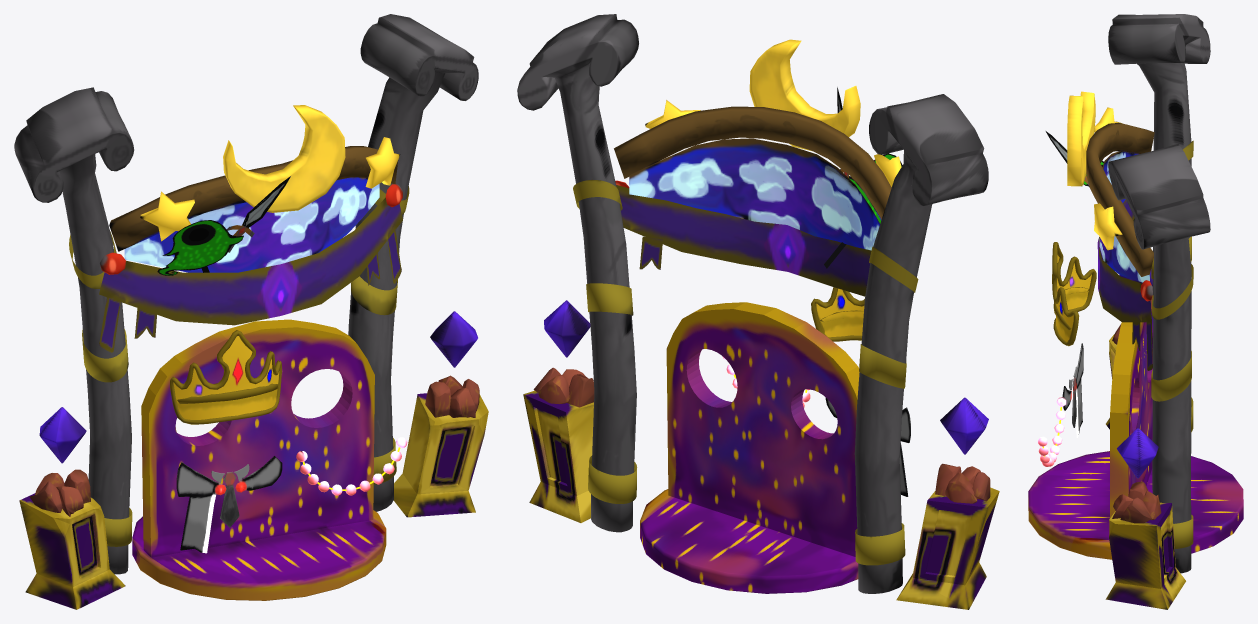
The model's file is Empty_Group_Photo_Booth_Lvl_03.fbx.
3 views of the same model, side by side, from view 1: azimuth 30°, elevation 25°; view 2: azimuth 150°, elevation 25°; view 3: azimuth 270°, elevation 25° (orthographic). The views are drawn at different scales.
Visible parts, largest first — view 1: Pillers_Photo_Booth_Lvl03, Background_Photo_Booth_Lvl03, BackGroundTop_Photo_Booth_Lvl03, Crystal_Lights_Photo_Booth_Lvl03, Crystal_Lights_Photo_Booth_Lvl03.001, GhostKing_Photo_Booth_Lvl03.001, GhostKing_Photo_Booth_Lvl03, GhostQueen_Photo_Booth_Lvl03; view 2: Pillers_Photo_Booth_Lvl03, Background_Photo_Booth_Lvl03, BackGroundTop_Photo_Booth_Lvl03, Crystal_Lights_Photo_Booth_Lvl03.001, Crystal_Lights_Photo_Booth_Lvl03, GhostKing_Photo_Booth_Lvl03.001, GhostKing_Photo_Booth_Lvl03; view 3: Pillers_Photo_Booth_Lvl03, Background_Photo_Booth_Lvl03, BackGroundTop_Photo_Booth_Lvl03, Crystal_Lights_Photo_Booth_Lvl03, GhostKing_Photo_Booth_Lvl03.001, GhostKing_Photo_Booth_Lvl03, GhostQueen_Photo_Booth_Lvl03, Crystal_Lights_Photo_Booth_Lvl03.001.
Part boxes in pixels (box(x1,y1,x2,y2)): Pillers_Photo_Booth_Lvl03: box(14, 14, 478, 574); Background_Photo_Booth_Lvl03: box(132, 319, 386, 600); BackGroundTop_Photo_Booth_Lvl03: box(109, 105, 400, 275); Crystal_Lights_Photo_Booth_Lvl03: box(393, 311, 488, 517); Crystal_Lights_Photo_Booth_Lvl03.001: box(19, 407, 125, 609); GhostKing_Photo_Booth_Lvl03.001: box(170, 330, 281, 424); GhostKing_Photo_Booth_Lvl03: box(176, 456, 282, 553); GhostQueen_Photo_Booth_Lvl03: box(296, 437, 407, 495); Pillers_Photo_Booth_Lvl03: box(517, 14, 988, 593); Background_Photo_Booth_Lvl03: box(640, 302, 859, 593); BackGroundTop_Photo_Booth_Lvl03: box(614, 39, 902, 268); Crystal_Lights_Photo_Booth_Lvl03.001: box(896, 397, 999, 609); Crystal_Lights_Photo_Booth_Lvl03: box(523, 300, 594, 522); GhostKing_Photo_Booth_Lvl03.001: box(811, 287, 906, 362); GhostKing_Photo_Booth_Lvl03: box(825, 398, 910, 496); Pillers_Photo_Booth_Lvl03: box(1097, 14, 1210, 573); Background_Photo_Booth_Lvl03: box(1028, 295, 1243, 559); BackGroundTop_Photo_Booth_Lvl03: box(1045, 91, 1154, 282); Crystal_Lights_Photo_Booth_Lvl03: box(1105, 428, 1185, 609); GhostKing_Photo_Booth_Lvl03.001: box(1052, 242, 1096, 346); GhostKing_Photo_Booth_Lvl03: box(1062, 343, 1083, 437); GhostQueen_Photo_Booth_Lvl03: box(1037, 397, 1066, 466); Crystal_Lights_Photo_Booth_Lvl03.001: box(1106, 269, 1152, 429).
Bounding box in the file's own units: 1.29 × 1.3 × 0.5845.
Materials: 1 (1 with a texture image).
